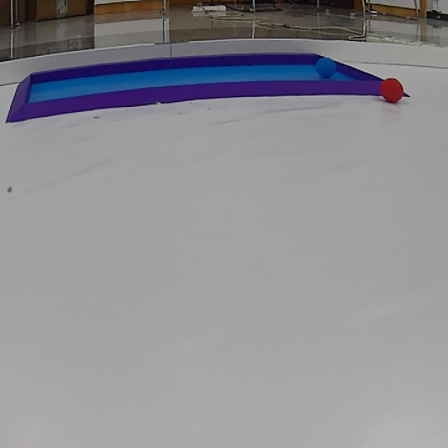blue: (315, 54, 339, 80)
blue_aim: (11, 54, 408, 119)
red: (376, 76, 405, 104)
